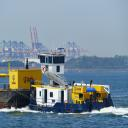tugboat: (29, 48, 118, 117)
